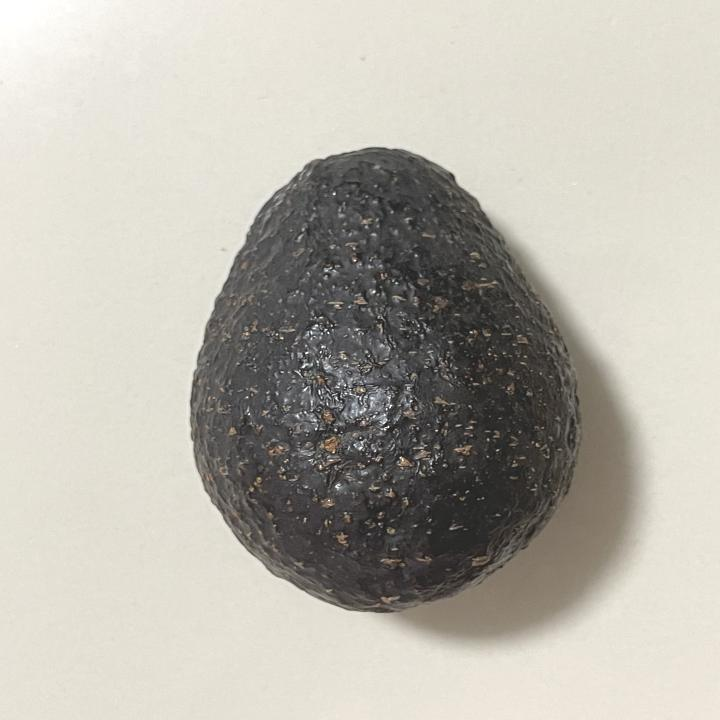Level3: (173, 134, 589, 622)
